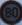Speed Limit -80-: (0, 0, 21, 24)
